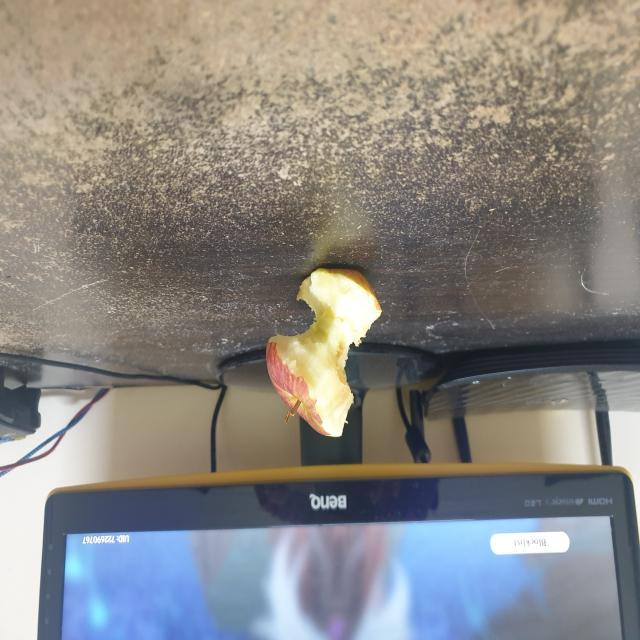apple: (252, 246, 404, 459)
